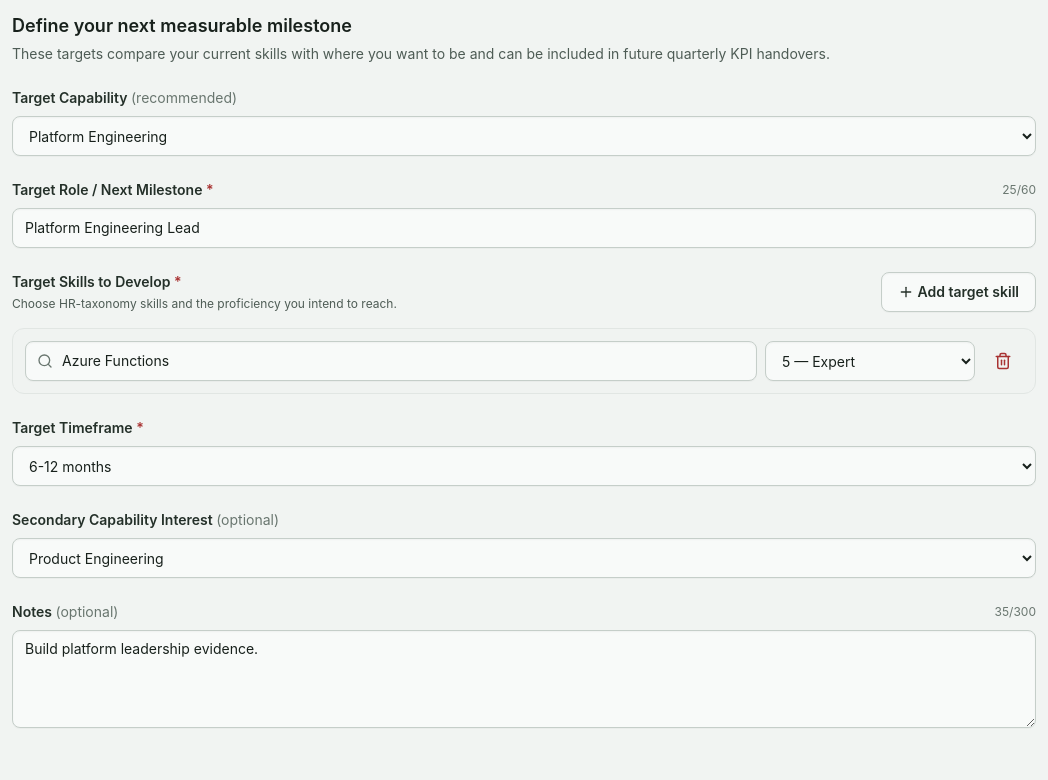
Test: structured career aspiration › excludes the primary capability and uses bounded structured inputs
Select "Product Engineering" in the dropdown labelled "Target Capability" at (524, 136), box [12,116,1036,156]
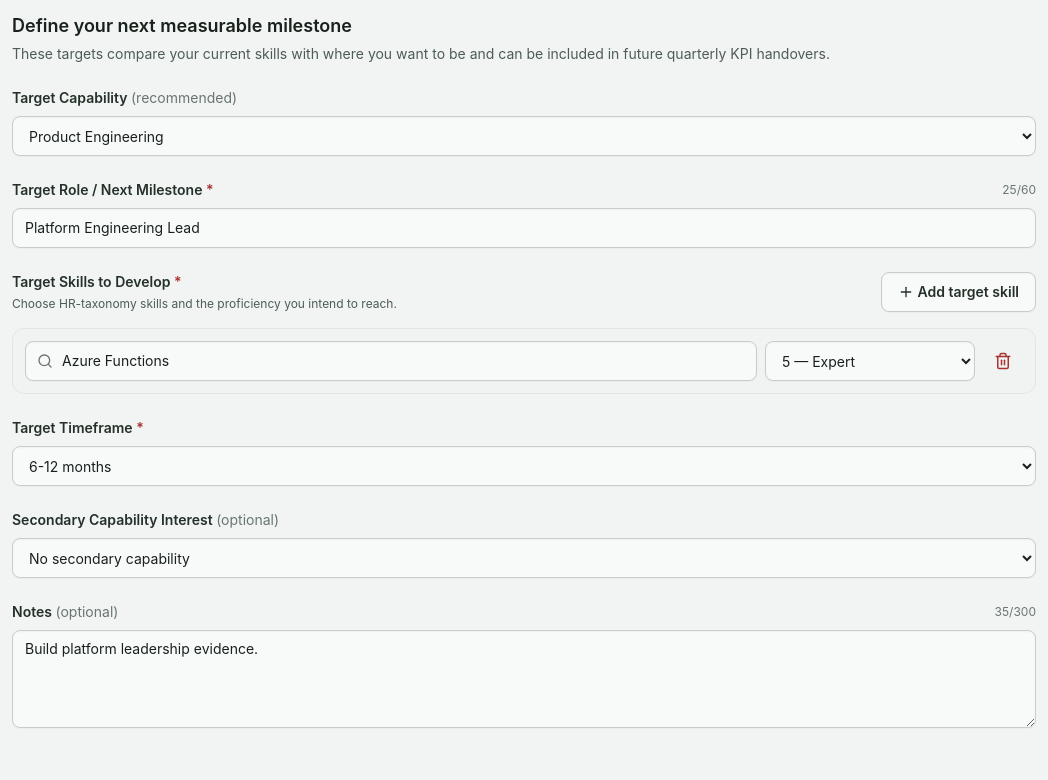
Expected: the dropdown labelled "Secondary Capability Interest" shows "No secondary capability", [12,538,1036,578]
